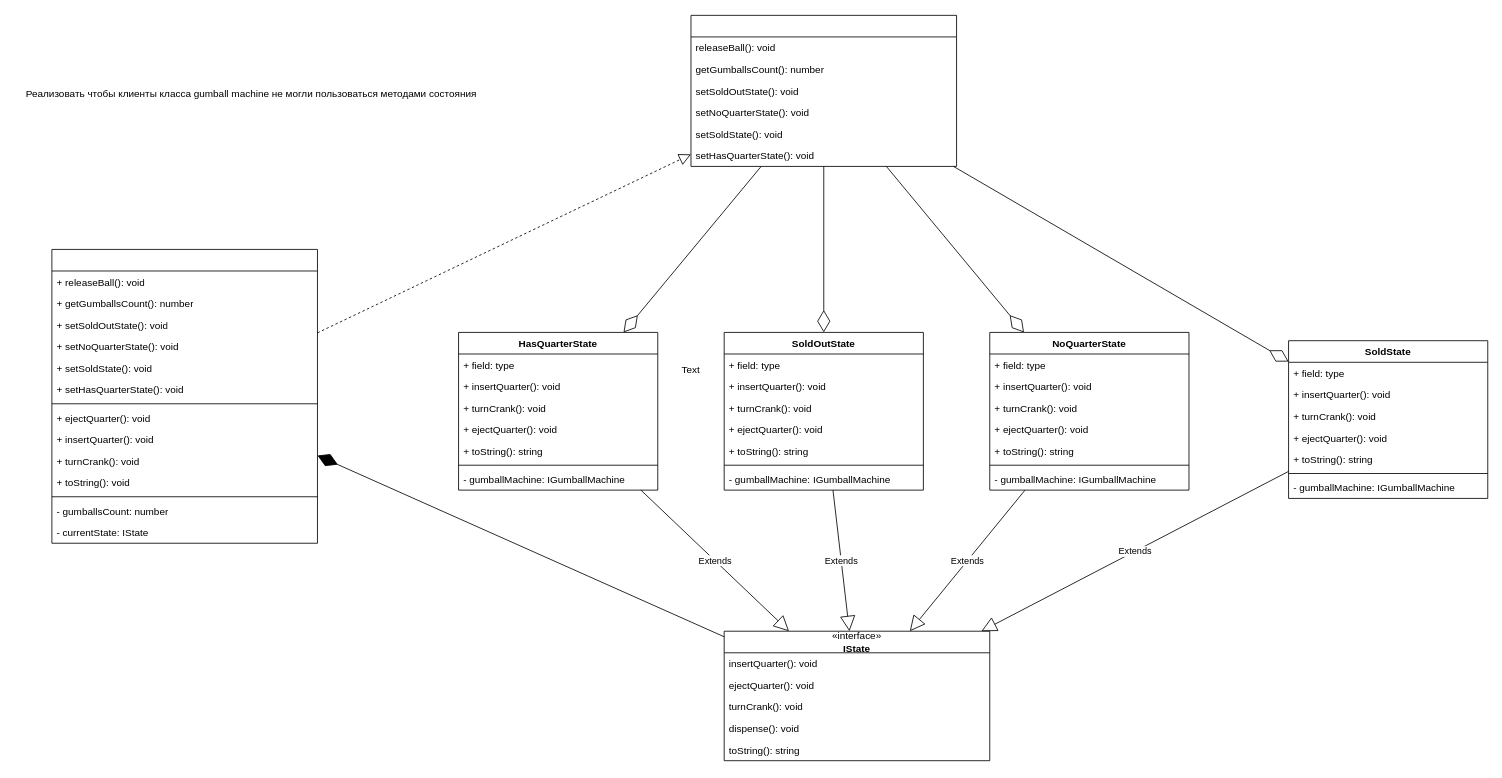
Some shapes in this 1502 by 778 pixel diagram are drawn without their labels. Each missing label, with the box of its shape:
GumballMachine: (51, 249, 317, 543)
«interface» IGumballMachine: (690, 15, 957, 166)
